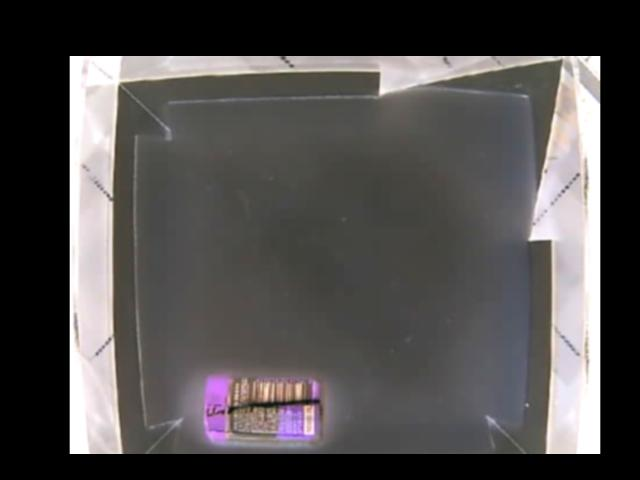Bottle: (202, 374, 323, 447)
